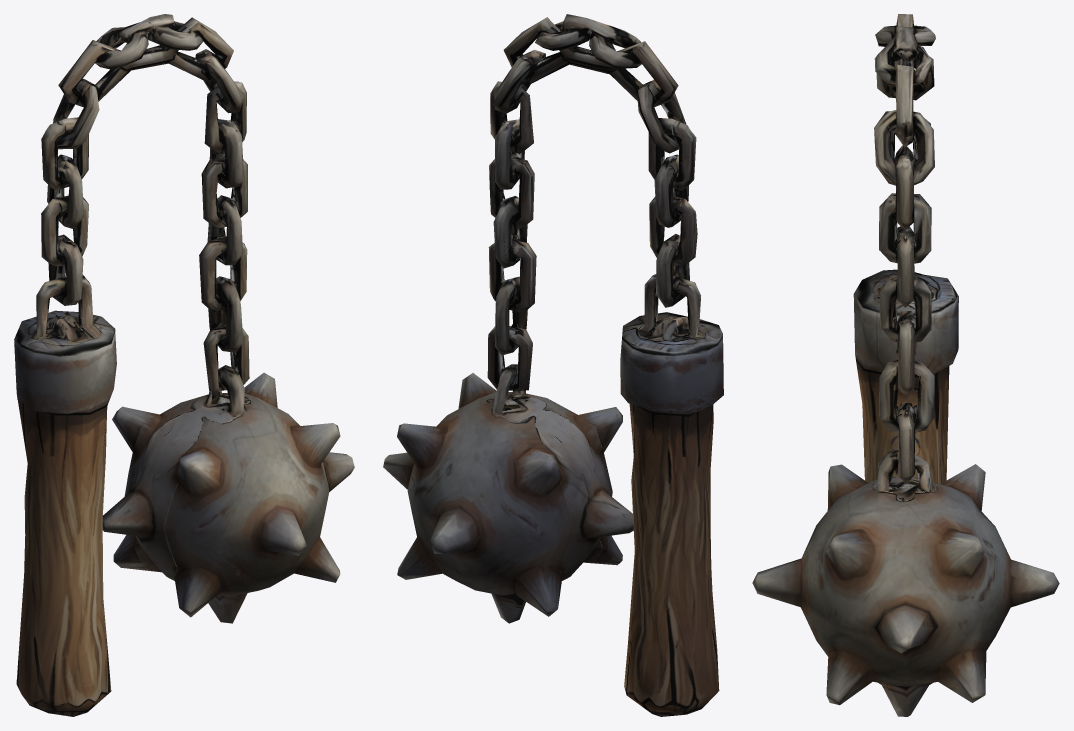
File: Prop_Weapon_Flail.fbx
3 views of the same model, side by side, from view 1: azimuth 30°, elevation 25°; view 2: azimuth 150°, elevation 25°; view 3: azimuth 270°, elevation 25° (orthographic). The views are drawn at different scales.
Visible parts, largest first — view 1: texture_mapping; view 2: texture_mapping; view 3: texture_mapping.
Boxes of the visible parts, left/top/right/bottom form: texture_mapping: left=14, top=14, right=354, bottom=716; texture_mapping: left=383, top=14, right=723, bottom=716; texture_mapping: left=752, top=14, right=1059, bottom=716.
Bounding box in the file's own units: 0.5149 × 0.3973 × 1.
Materials: 1 (1 with a texture image).
